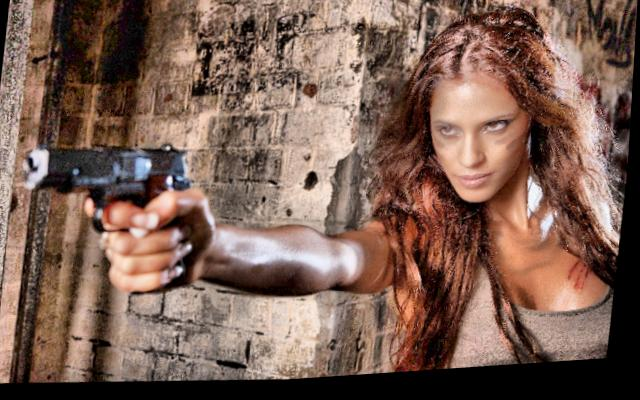pistol: (14, 131, 207, 299)
